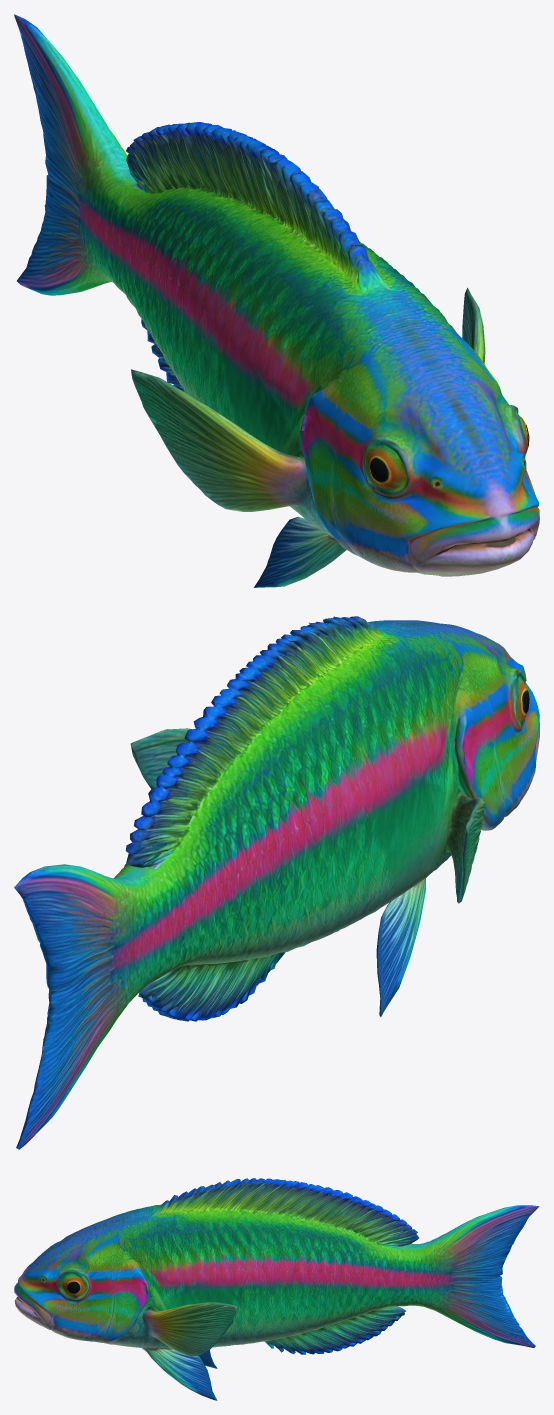
The model's file is Wrasse.obj.
3 renders of one model, top to bottom at view 1: azimuth 30°, elevation 25°; view 2: azimuth 150°, elevation 25°; view 3: azimuth 270°, elevation 25°, orthographic. The views are drawn at different scales.
Bounding box in the file's own units: 0.3926 × 0.4331 × 1.
Materials: 1 (1 with a texture image).
